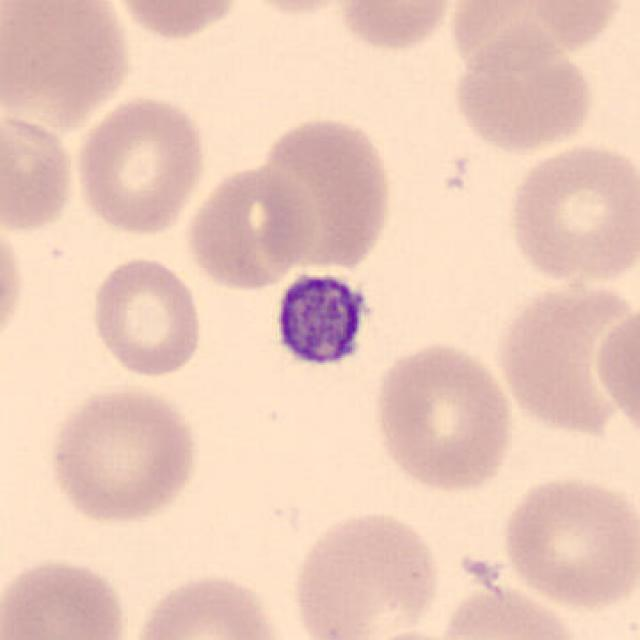Platelets: (265, 266, 377, 381)
RBC: (492, 273, 638, 441), (368, 337, 517, 495), (42, 381, 202, 527), (254, 111, 396, 273), (288, 504, 443, 638), (71, 92, 210, 240), (502, 138, 638, 288), (496, 469, 638, 612), (448, 28, 597, 155), (181, 160, 320, 292), (2, 0, 135, 129), (87, 252, 206, 381), (124, 567, 293, 640), (0, 552, 133, 640), (449, 0, 615, 63), (0, 110, 80, 236), (435, 582, 585, 640), (590, 292, 640, 448), (334, 0, 459, 53), (104, 0, 245, 42), (521, 0, 627, 51), (0, 213, 30, 356), (230, 0, 372, 16), (341, 627, 479, 640)
